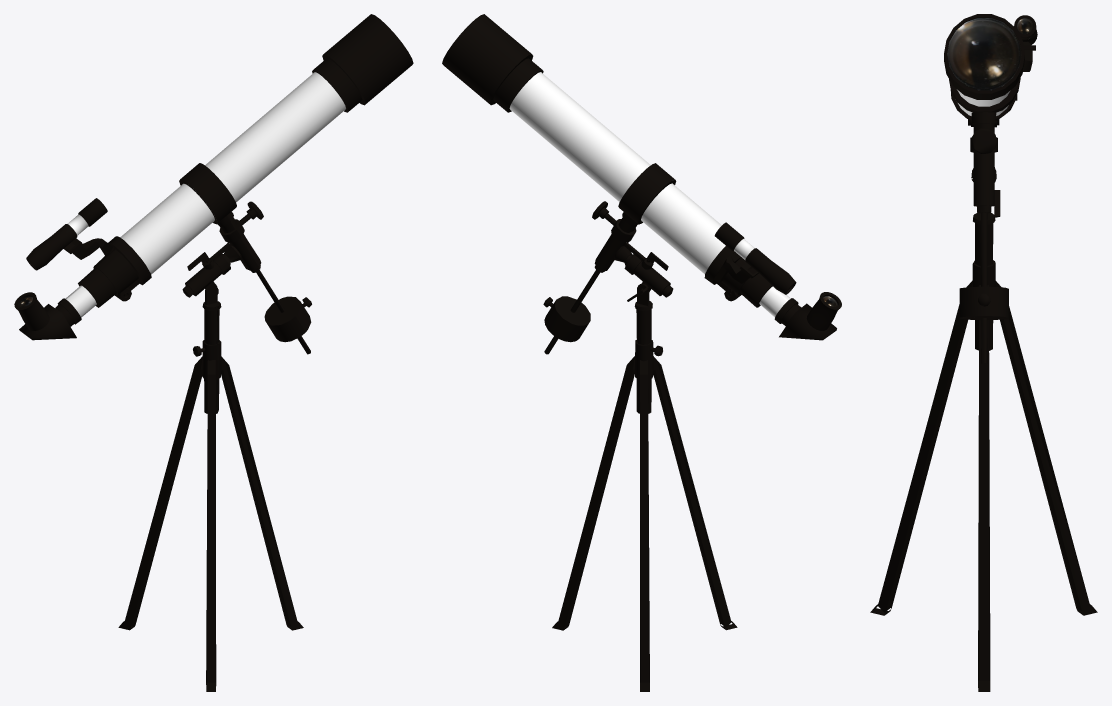
File: Telescope.FBX
3 renders of one model, left to right at view 1: azimuth 30°, elevation 25°; view 2: azimuth 150°, elevation 25°; view 3: azimuth 270°, elevation 25°, orthographic. The views are drawn at different scales.
Parts seen in each view (by area): view 1: Telescope; view 2: Telescope; view 3: Telescope.
Part boxes in pixels (<box>): Telescope: <box>14,14,413,691</box>; Telescope: <box>442,14,841,691</box>; Telescope: <box>870,14,1097,691</box>.
Bounding box in the file's own units: 76.78 × 111 × 31.66.
1 material, 1 textured.
